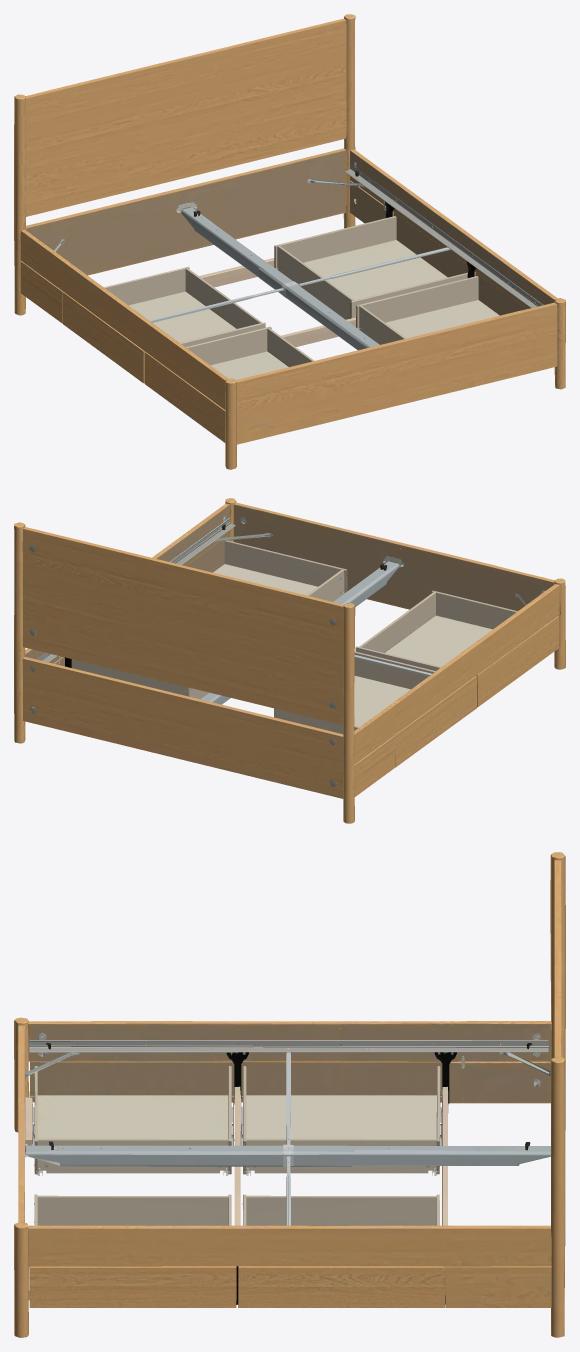
3 views of the same model, one above another, from view 1: azimuth 30°, elevation 25°; view 2: azimuth 150°, elevation 25°; view 3: azimuth 270°, elevation 25° (orthographic). The views are drawn at different scales.
Parts seen in each view (by area): view 1: base_bedsize; view 2: base_bedsize; view 3: base_bedsize.
Boxes of the visible parts, <box> form: base_bedsize: <box>14,14,565,469</box>; base_bedsize: <box>14,498,565,823</box>; base_bedsize: <box>14,852,565,1337</box>.
Bounding box in the file's own units: 1.91 × 1.17 × 2.1.
Materials: 7 (7 with a texture image).
